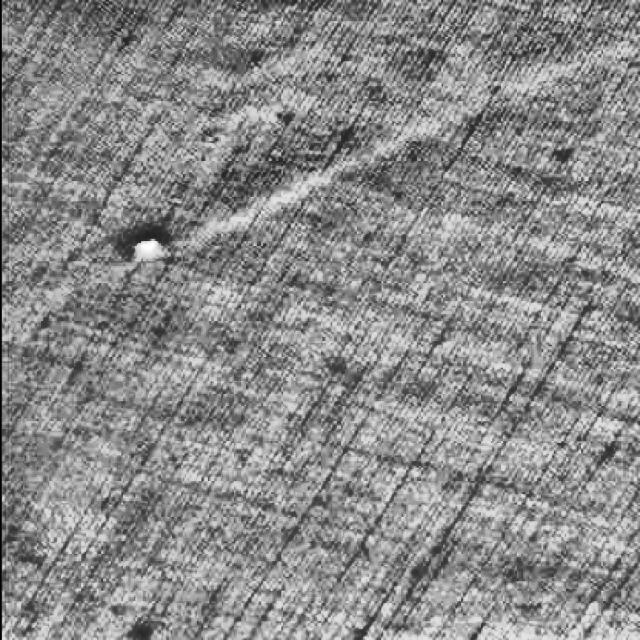hole: (128, 227, 174, 267)
